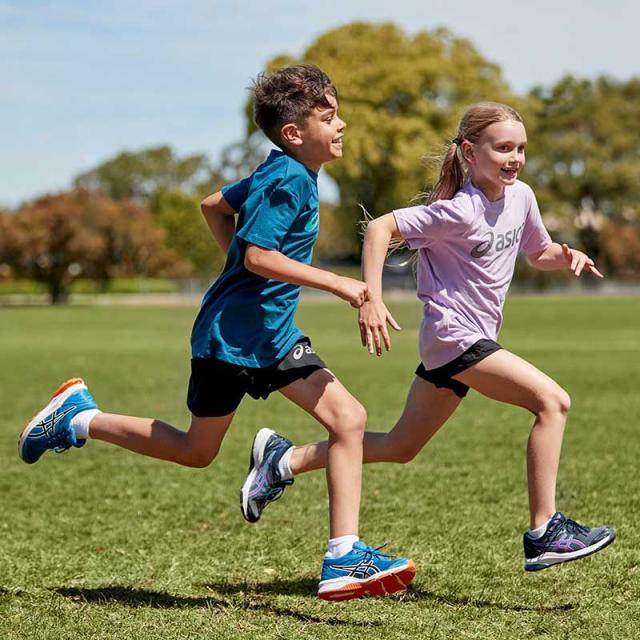Person: (20, 65, 415, 599), (238, 102, 618, 572)
